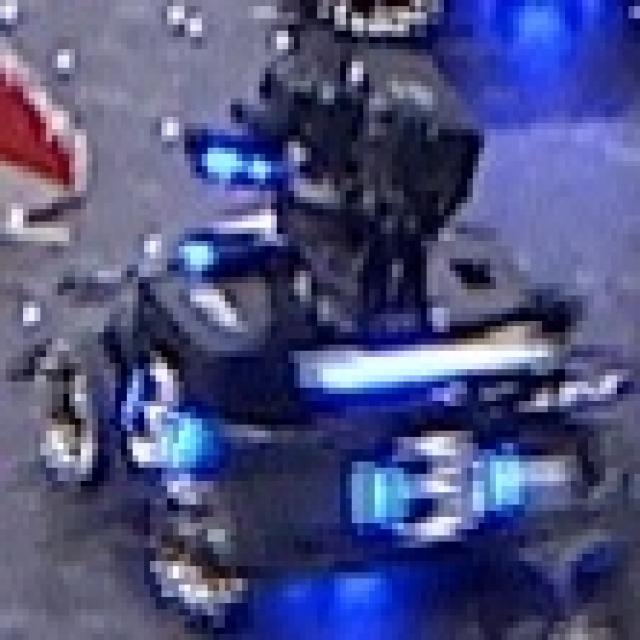B3: (334, 418, 530, 548), (110, 344, 213, 468)
